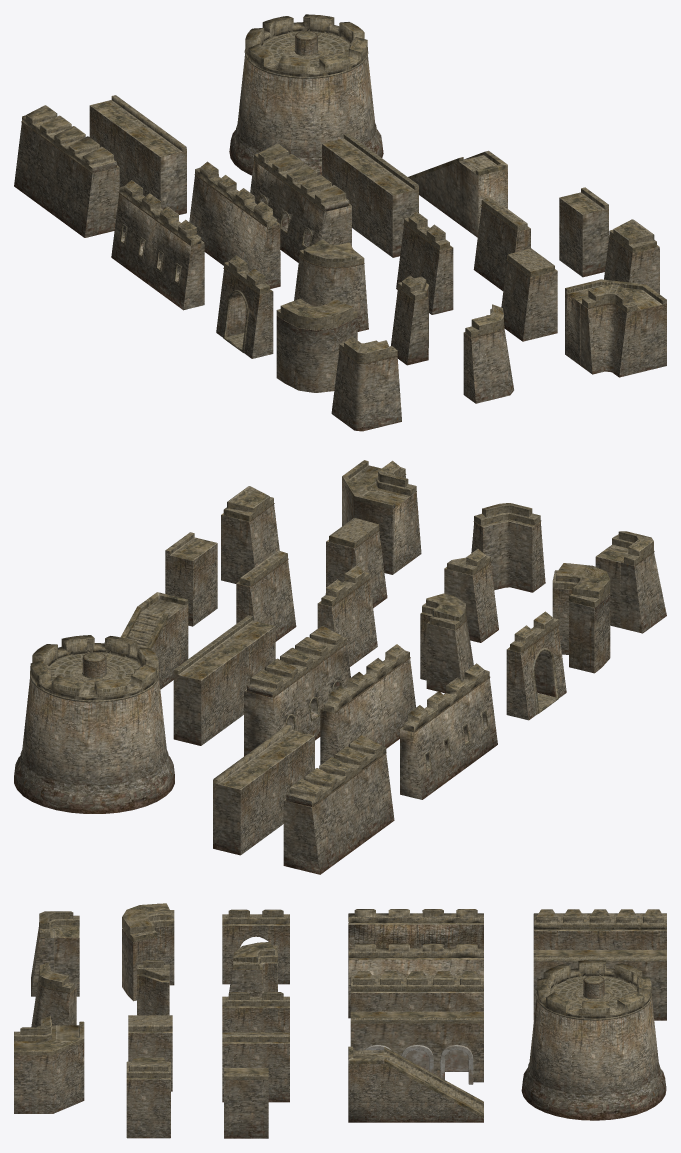
File: modular_fort_01.glb
3 views of the same model, one above another, from view 1: azimuth 30°, elevation 25°; view 2: azimuth 150°, elevation 25°; view 3: azimuth 270°, elevation 25° (orthographic). The views are drawn at different scales.
Visible parts, largest first — view 1: modular_fort_01_tower_round, modular_fort_01_wall_thick_straight_01, modular_fort_01_wall_thin_straight_02, modular_fort_01_wall_thick_straight_02, modular_fort_01_wall_thin_straight_01, modular_fort_01_wall_walkway_straight_01, modular_fort_01_wall_walkway_straight_02, modular_fort_01_wall_thick_corner_02, modular_fort_01_wall_thin_corner_02, modular_fort_01_wall_thin_corner_01, modular_fort_01_wall_stairs_straight_01, modular_fort_01_wall_thin_gate_01 (+9 smaller); view 2: modular_fort_01_tower_round, modular_fort_01_wall_thick_straight_01, modular_fort_01_wall_thin_straight_02, modular_fort_01_wall_walkway_straight_01, modular_fort_01_wall_walkway_straight_02, modular_fort_01_wall_thick_straight_02, modular_fort_01_wall_thin_straight_01, modular_fort_01_wall_thick_corner_02, modular_fort_01_wall_thin_corner_03, modular_fort_01_wall_thin_gate_01, modular_fort_01_wall_thick_corner_01, modular_fort_01_wall_thick_end_02 (+10 smaller); view 3: modular_fort_01_tower_round, modular_fort_01_wall_stairs_straight_01, modular_fort_01_wall_walkway_straight_01, modular_fort_01_wall_walkway_corner_01, modular_fort_01_wall_thick_straight_01, modular_fort_01_wall_thick_straight_02, modular_fort_01_wall_thin_straight_02, modular_fort_01_wall_thin_straight_01, modular_fort_01_wall_thick_end_02, modular_fort_01_wall_thick_corner_02, modular_fort_01_wall_walkway_straight_02, modular_fort_01_wall_thin_straight_03 (+10 smaller).
Part boxes in pixels (x1,y1,x2,y2): modular_fort_01_tower_round: (229,14,383,175); modular_fort_01_wall_thick_straight_01: (14,105,119,237); modular_fort_01_wall_thin_straight_02: (111,180,204,310); modular_fort_01_wall_thick_straight_02: (250,143,351,262); modular_fort_01_wall_thin_straight_01: (189,161,280,288); modular_fort_01_wall_walkway_straight_01: (322,133,418,257); modular_fort_01_wall_walkway_straight_02: (89,95,186,214); modular_fort_01_wall_thick_corner_02: (276,298,357,392); modular_fort_01_wall_thin_corner_02: (331,336,401,431); modular_fort_01_wall_thin_corner_01: (580,284,640,377); modular_fort_01_wall_stairs_straight_01: (408,150,507,237); modular_fort_01_wall_thin_gate_01: (216,255,273,358); modular_fort_01_tower_round: (14,635,174,813); modular_fort_01_wall_thick_straight_01: (283,735,394,874); modular_fort_01_wall_thin_straight_02: (400,663,497,799); modular_fort_01_wall_walkway_straight_01: (173,615,275,745); modular_fort_01_wall_walkway_straight_02: (213,724,314,855); modular_fort_01_wall_thick_straight_02: (244,626,350,756); modular_fort_01_wall_thin_straight_01: (320,644,415,764); modular_fort_01_wall_thick_corner_02: (552,563,610,673); modular_fort_01_wall_thin_corner_03: (471,503,545,592); modular_fort_01_wall_thin_gate_01: (506,611,566,720); modular_fort_01_wall_thick_corner_01: (420,593,473,693); modular_fort_01_wall_thick_end_02: (221,486,279,583); modular_fort_01_tower_round: (521,960,666,1120); modular_fort_01_wall_stairs_straight_01: (348,1046,483,1122); modular_fort_01_wall_walkway_straight_01: (350,1011,483,1084); modular_fort_01_wall_walkway_corner_01: (14,1021,84,1113); modular_fort_01_wall_thick_straight_01: (533,909,666,949); modular_fort_01_wall_thick_straight_02: (350,971,483,1011); modular_fort_01_wall_thin_straight_02: (348,909,483,949); modular_fort_01_wall_thin_straight_01: (348,943,483,1018); modular_fort_01_wall_thick_end_02: (126,1057,170,1138); modular_fort_01_wall_thick_corner_02: (122,903,174,1001); modular_fort_01_wall_walkway_straight_02: (533,950,666,1020); modular_fort_01_wall_thin_straight_03: (222,1032,289,1102).
Size of the model in its own units: 42.67 by 13.67 by 71.38.
Materials: 3 (3 with a texture image).
